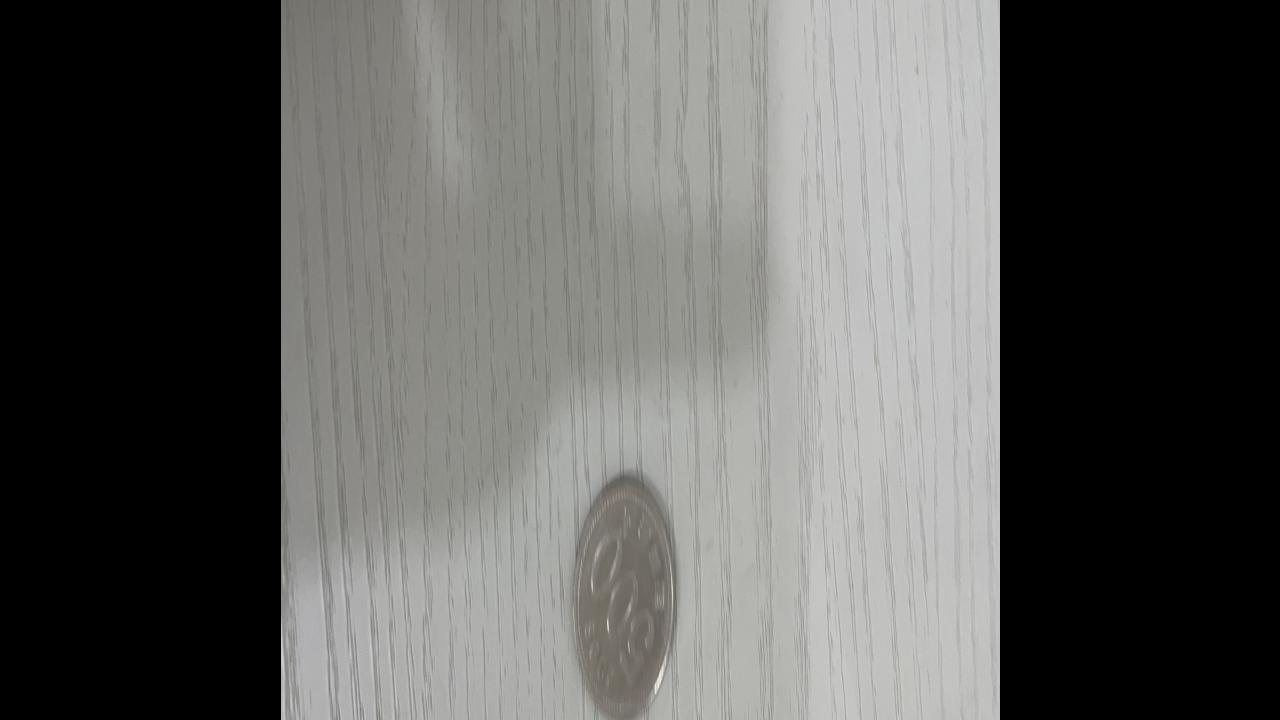coin: (568, 464, 678, 720)
